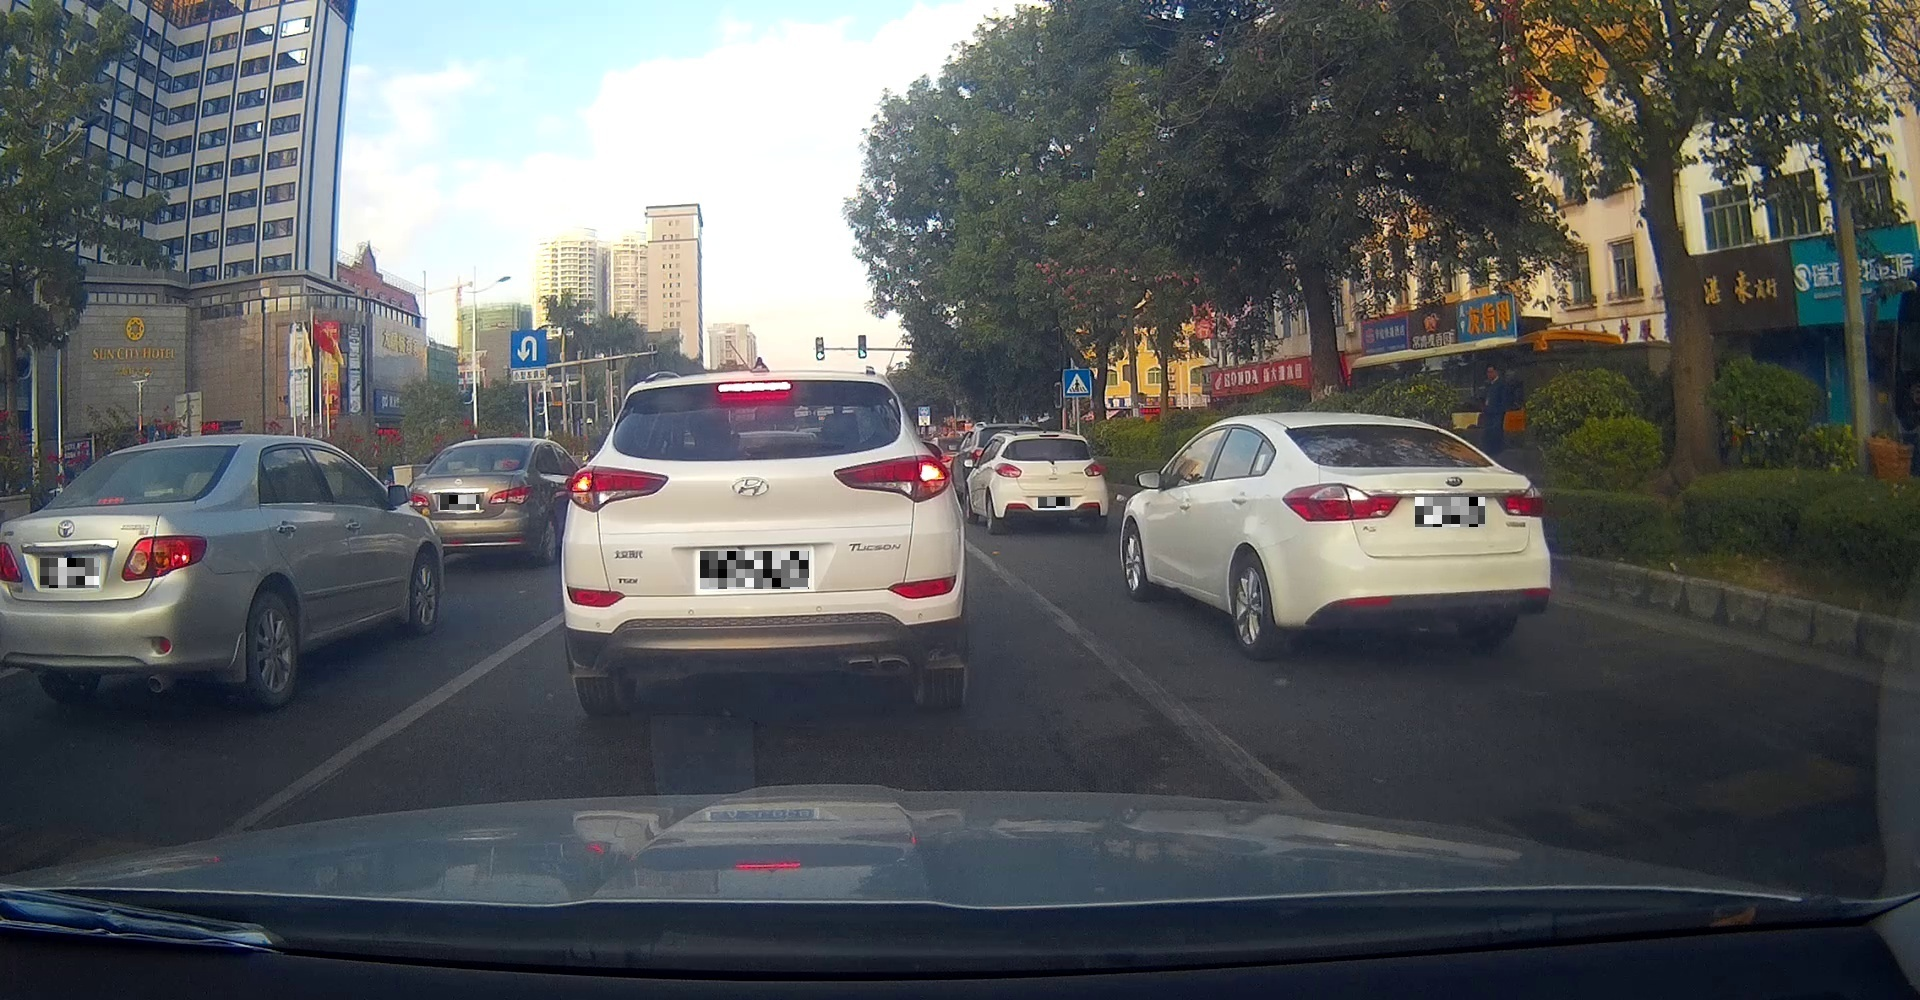L_light: (568, 464, 669, 513), (1281, 482, 1403, 522), (994, 462, 1022, 478)
R_light: (833, 454, 951, 503), (1495, 484, 1544, 516), (1083, 462, 1102, 477)
T_light: (717, 382, 791, 393), (1393, 459, 1440, 466), (1037, 435, 1059, 437)
day-brake: (561, 365, 966, 718)
day-no: (1274, 411, 1550, 661), (993, 430, 1109, 534)
plate_1: (41, 558, 99, 588)
plate_2: (439, 495, 479, 510)
plate_3: (700, 551, 809, 589)
plate_4: (1037, 497, 1070, 508)
plate_5: (1415, 497, 1484, 527)
